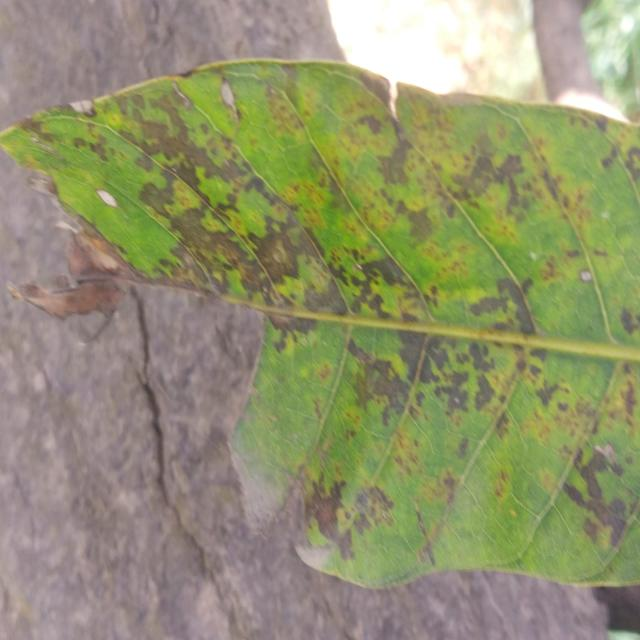Anthracnose: (155, 177, 311, 288), (357, 256, 470, 393), (60, 220, 124, 310), (570, 454, 628, 549), (214, 78, 248, 128)
